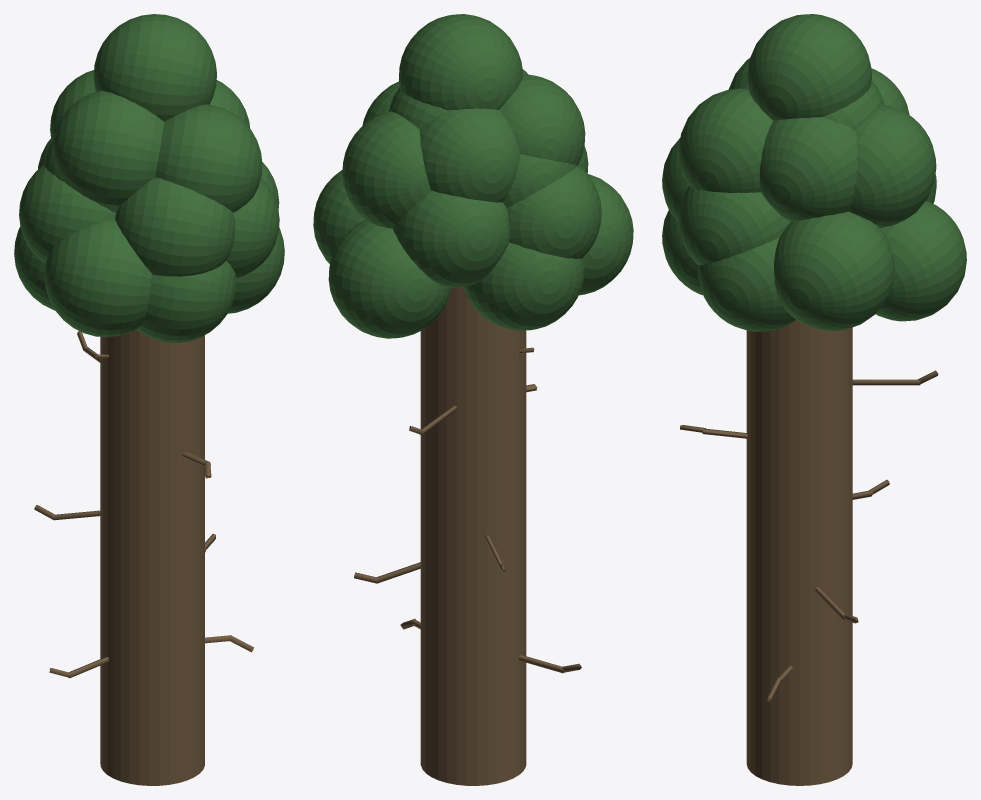
The model's file is Tree.fbx.
3 views of the same model, side by side, from view 1: azimuth 30°, elevation 25°; view 2: azimuth 150°, elevation 25°; view 3: azimuth 270°, elevation 25° (orthographic).
Visible parts, largest first — view 1: Cylinder, Sphere.013, Sphere.008, Sphere.014, Sphere.003, Sphere.007, Sphere.017, Sphere.012, Sphere.009, Sphere.018, Sphere.015, Sphere (+1 smaller); view 2: Cylinder, Sphere.016, Sphere.013, Sphere.011, Sphere, Sphere.006, Sphere.015, Sphere.012, Sphere.008, Sphere.014, Sphere.010, Sphere.001 (+2 smaller); view 3: Cylinder, Sphere.010, Sphere.013, Sphere.004, Sphere.006, Sphere.007, Sphere.016, Sphere.009, Sphere.018, Sphere.017, Sphere.003, Sphere.005 (+1 smaller).
Part boxes in pixels (bbox=[...]): Cylinder: bbox=[100, 329, 204, 785]; Sphere.013: bbox=[93, 14, 216, 121]; Sphere.008: bbox=[52, 90, 164, 206]; Sphere.014: bbox=[44, 219, 152, 337]; Sphere.003: bbox=[115, 177, 234, 276]; Sphere.007: bbox=[155, 104, 262, 212]; Sphere.017: bbox=[136, 261, 236, 342]; Sphere.012: bbox=[19, 165, 115, 262]; Sphere.009: bbox=[226, 177, 279, 278]; Sphere.018: bbox=[228, 227, 284, 313]; Sphere.015: bbox=[14, 227, 54, 310]; Sphere: bbox=[50, 70, 95, 141]; Cylinder: bbox=[420, 287, 526, 785]; Sphere.016: bbox=[328, 220, 451, 338]; Sphere.013: bbox=[399, 14, 522, 110]; Sphere.011: bbox=[393, 190, 509, 287]; Sphere: bbox=[419, 108, 520, 202]; Sphere.006: bbox=[342, 111, 430, 228]; Sphere.015: bbox=[463, 242, 584, 330]; Sphere.012: bbox=[507, 165, 601, 258]; Sphere.008: bbox=[499, 74, 585, 165]; Sphere.014: bbox=[579, 174, 633, 295]; Sphere.010: bbox=[313, 169, 364, 263]; Sphere.001: bbox=[503, 154, 577, 207]; Cylinder: bbox=[746, 320, 852, 785]; Sphere.010: bbox=[774, 211, 894, 330]; Sphere.013: bbox=[747, 14, 871, 120]; Sphere.004: bbox=[759, 117, 857, 221]; Sphere.006: bbox=[849, 105, 936, 227]; Sphere.007: bbox=[678, 88, 772, 192]; Sphere.016: bbox=[875, 201, 966, 321]; Sphere.009: bbox=[678, 186, 790, 265]; Sphere.018: bbox=[697, 238, 796, 331]; Sphere.017: bbox=[662, 210, 702, 295]; Sphere.003: bbox=[662, 138, 689, 221]; Sphere.005: bbox=[821, 80, 884, 130].
Bounding box in the file's own units: 572 × 1554 × 574.
